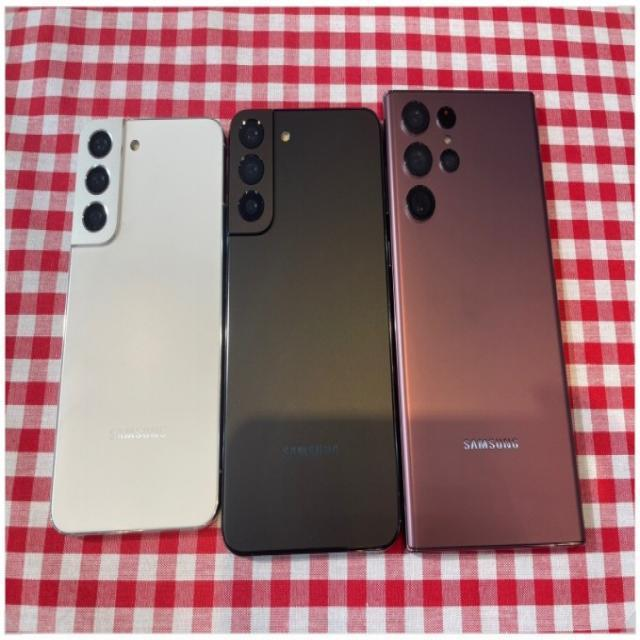phone: (222, 104, 402, 558)
